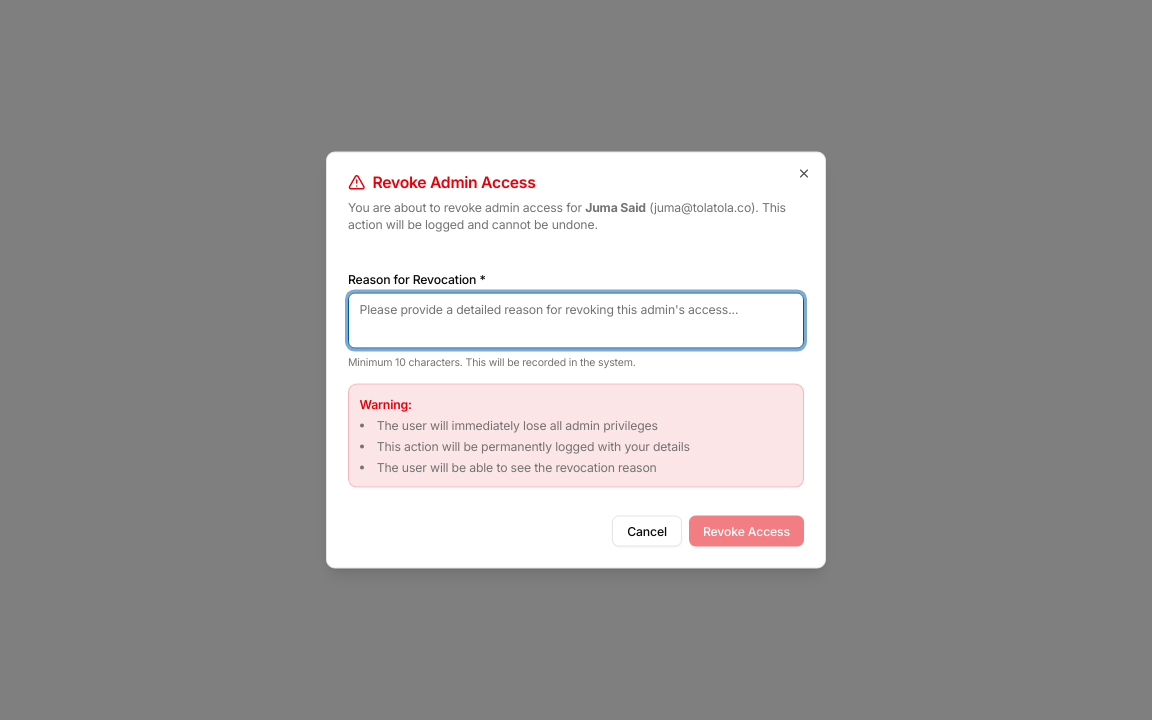
it: RevokeAdminDialog › disables the confirm button until the reason reaches 10 characters
Expected: the button "Revoke Access" is disabled, [689,515,804,546]
Type "short" into the text box labelled "Reason for Revocation *" at x=576, y=320, box [348,292,804,348]
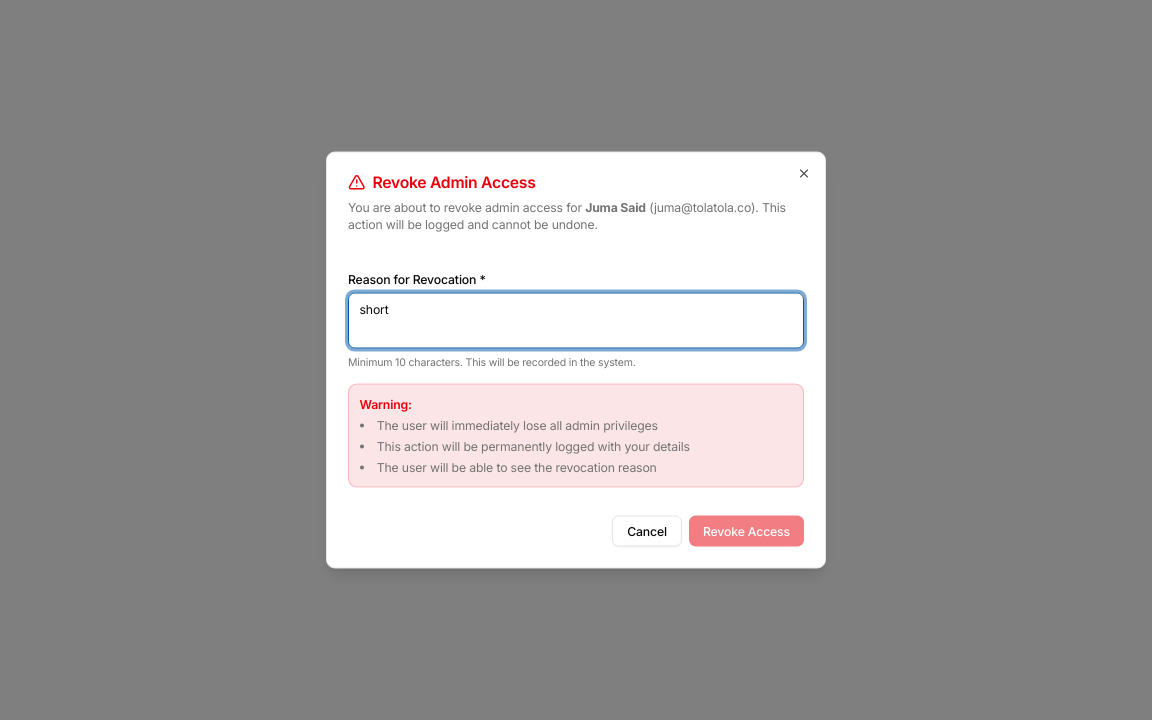
Expected: the button "Revoke Access" is disabled, [689,515,804,546]
Type " enough now" into the text box labelled "Reason for Revocation *" at x=576, y=320, box [348,292,804,348]
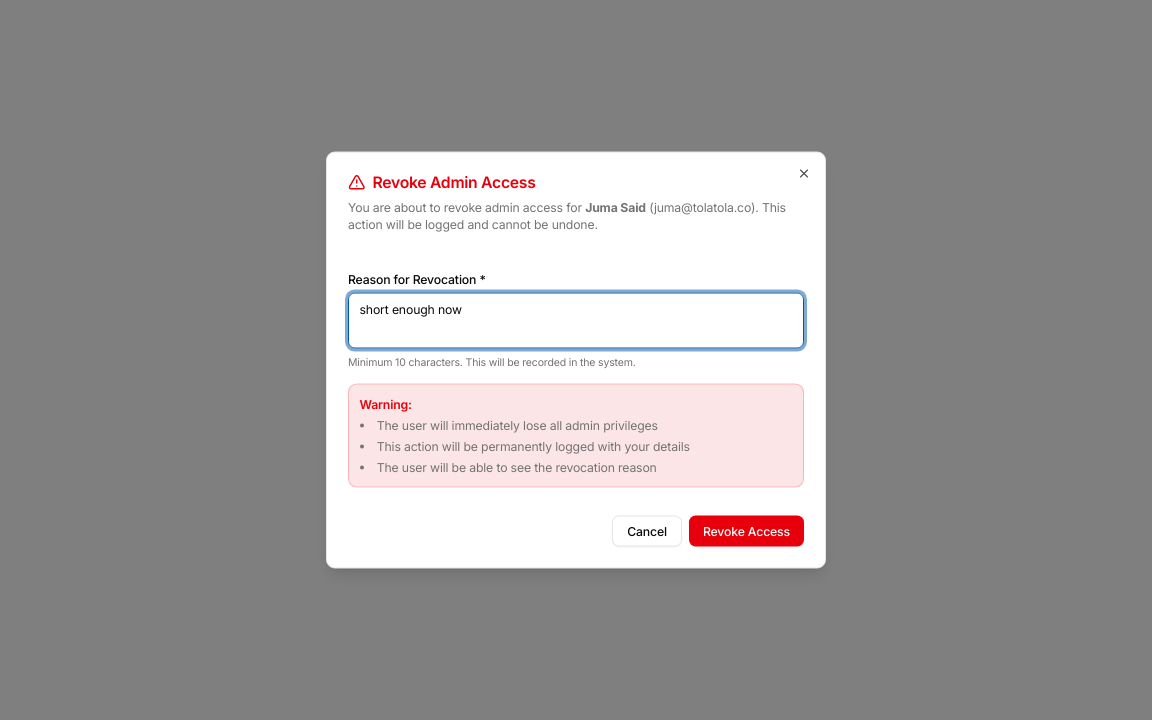
Result: the button "Revoke Access" is enabled at [689,515,804,546]
